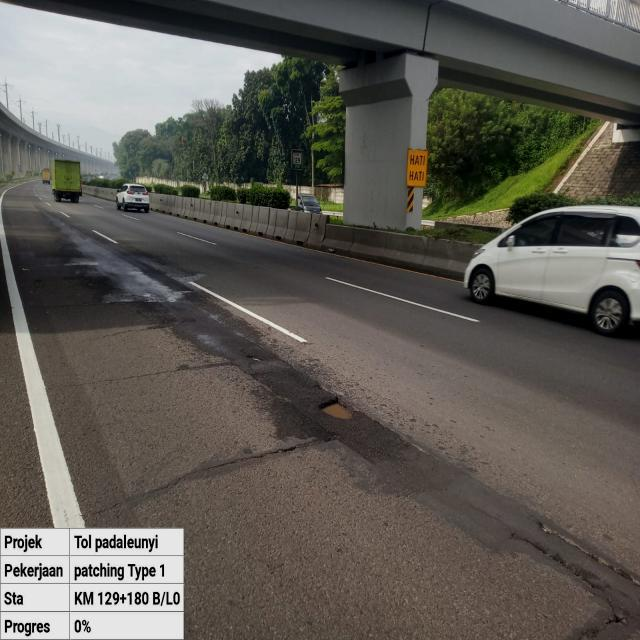Buraco: (314, 395, 358, 422), (601, 609, 632, 628), (244, 354, 266, 364)
